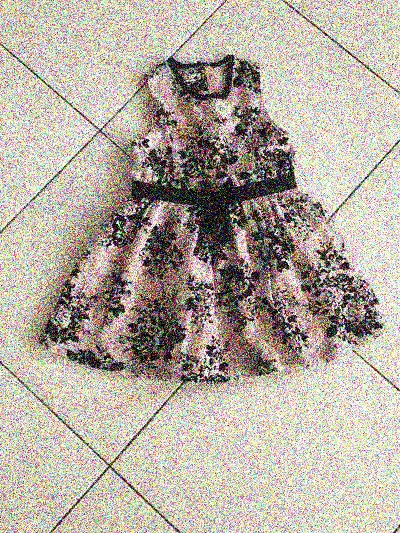Dress: (24, 51, 371, 402)
